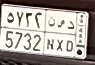2: (32, 12, 43, 52)
3: (23, 11, 33, 51)
5: (5, 11, 14, 49)
7: (14, 11, 24, 49)
D: (66, 20, 75, 53)
N: (46, 16, 56, 51)
X: (56, 19, 66, 52)
